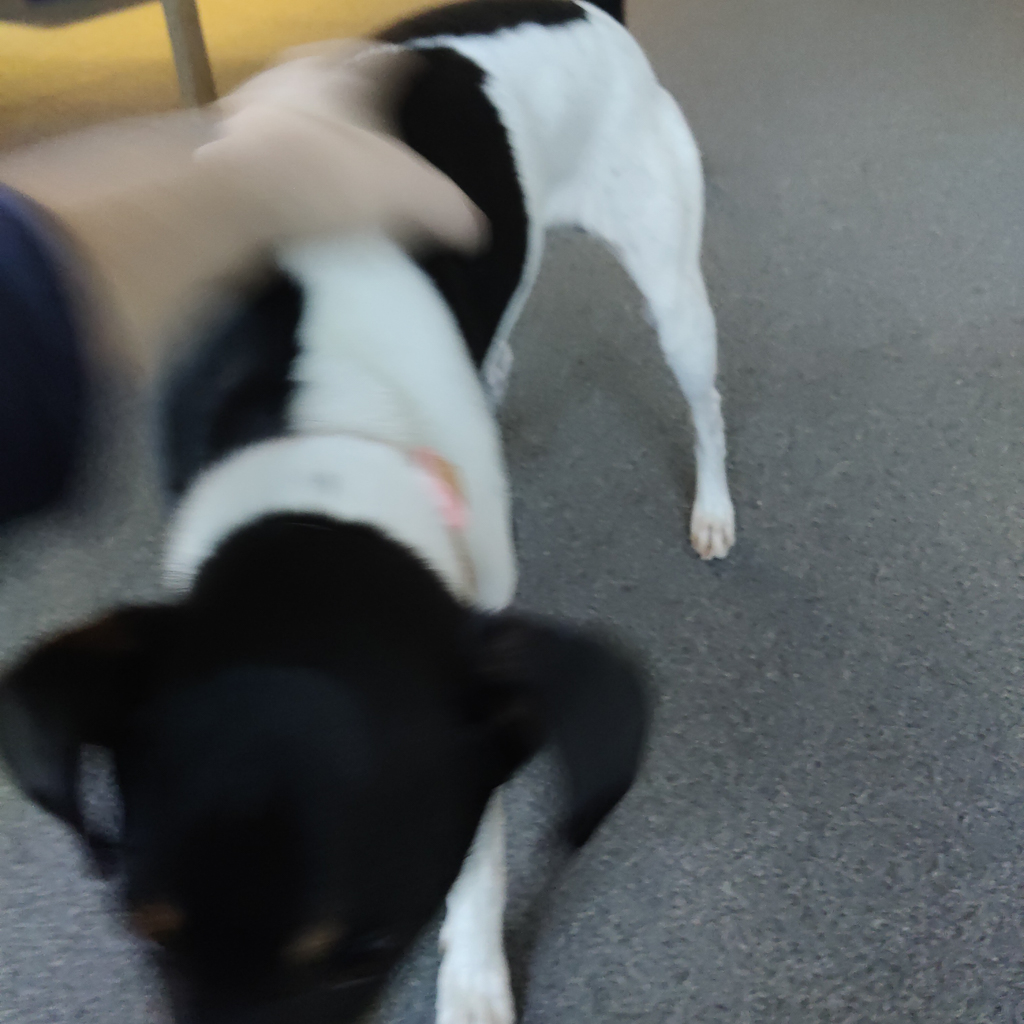Dog: (0, 0, 761, 1024)
Humanoid: (0, 19, 526, 607)
